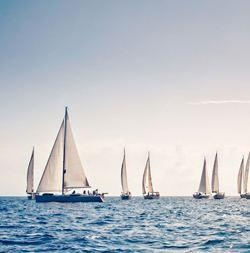fanchuan: (30, 107, 106, 202), (142, 151, 163, 201), (118, 147, 135, 200), (192, 156, 212, 200)
